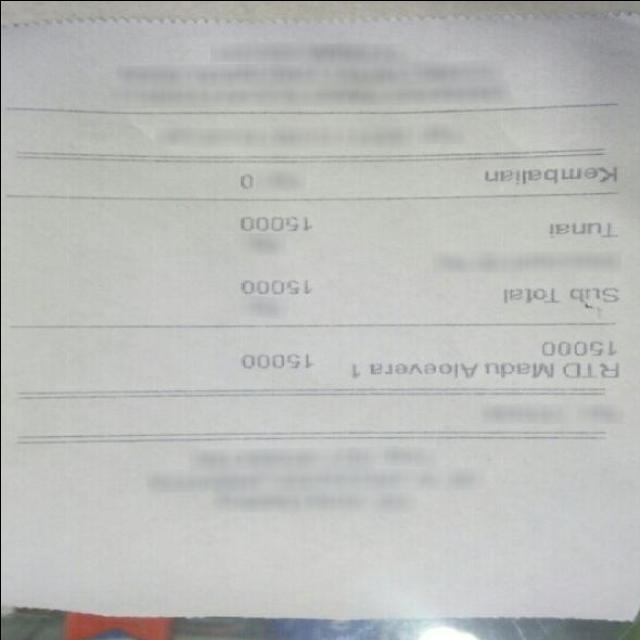kertas: (0, 13, 638, 619)
